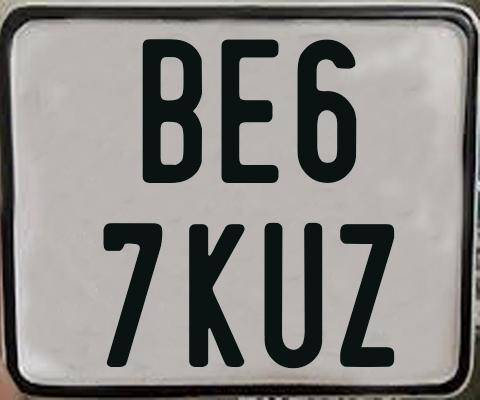6: (295, 39, 355, 184)
7: (100, 220, 161, 368)
B: (142, 39, 207, 184)
E: (219, 36, 283, 183)
K: (187, 224, 247, 371)
U: (264, 221, 322, 370)
Z: (337, 221, 396, 370)
